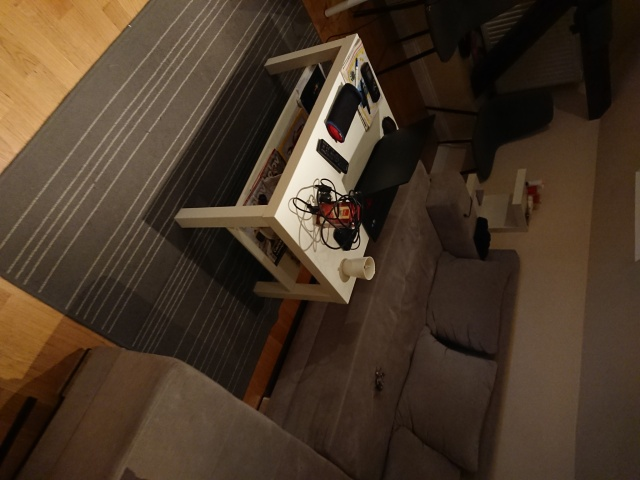Franck Apple Cinnamon Tea 60g: (313, 200, 362, 228)
